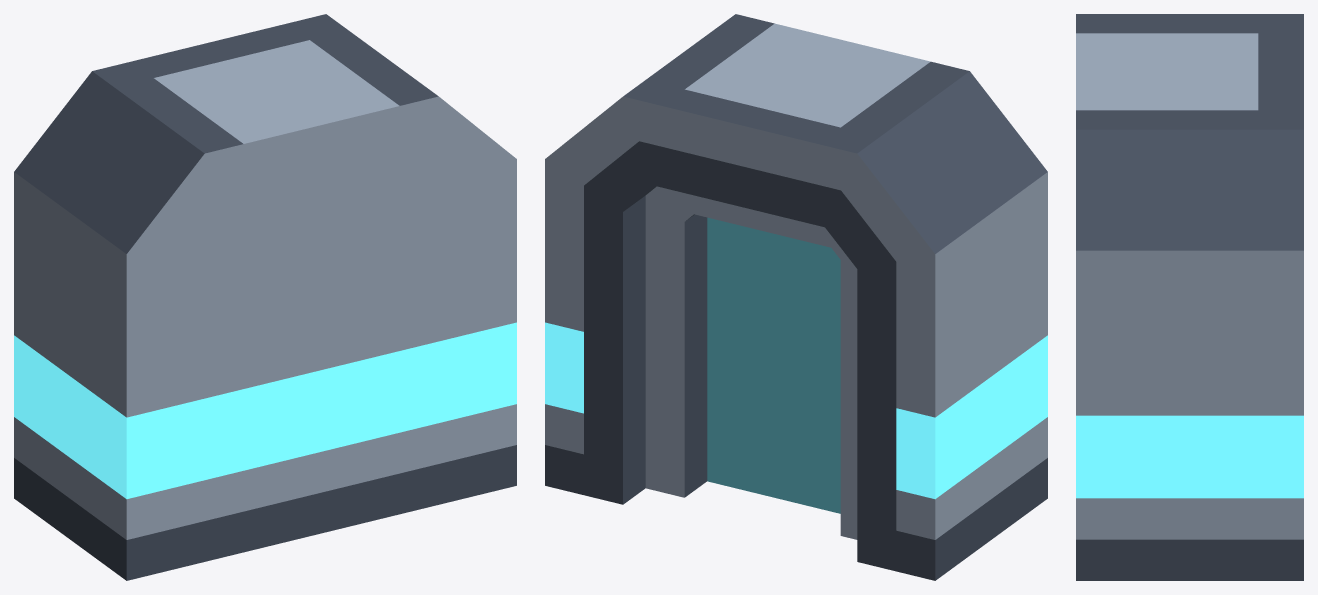
Rendered from corridor_end.glb.
The picture shows the model from 3 angles, left to right: view 1: azimuth 30°, elevation 25°; view 2: azimuth 150°, elevation 25°; view 3: azimuth 270°, elevation 25°; orthographic projection.
Visible parts, largest first — view 1: corridor_end; view 2: corridor_end; view 3: corridor_end.
Boxes of the visible parts, box(x1,y1,x2,y2) form: corridor_end: box(14, 14, 516, 580); corridor_end: box(545, 14, 1047, 580); corridor_end: box(1076, 14, 1303, 580).
Size of the model in its own units: 1 by 1 by 0.5.
